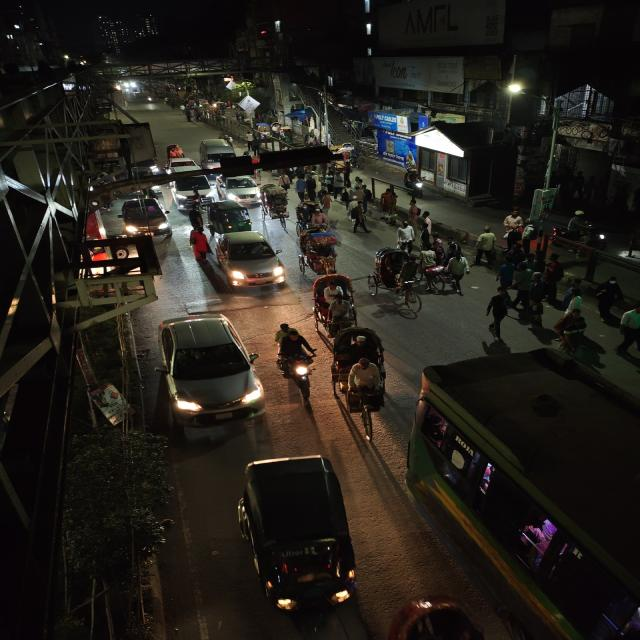bus: (399, 354, 638, 640)
car: (150, 310, 267, 429), (205, 228, 286, 292), (116, 195, 174, 239), (218, 174, 262, 203), (196, 138, 238, 166), (166, 158, 200, 174)
cng: (233, 452, 359, 628), (205, 200, 254, 234)
motorcycle: (272, 321, 318, 403)
pedestrian: (552, 308, 590, 353), (520, 273, 551, 322), (615, 302, 640, 362), (594, 276, 624, 324), (482, 288, 512, 336), (418, 247, 446, 291), (511, 264, 535, 310), (472, 225, 498, 267), (542, 255, 566, 299), (377, 184, 402, 226), (446, 253, 469, 293), (346, 198, 373, 232), (395, 220, 416, 254), (405, 169, 427, 201), (501, 208, 524, 236), (496, 260, 518, 289), (565, 289, 586, 317), (418, 209, 436, 241), (294, 171, 313, 201), (301, 171, 318, 201), (316, 188, 335, 214), (433, 235, 446, 263), (445, 240, 461, 262), (277, 172, 293, 190)
rickshaw: (333, 325, 392, 416), (368, 247, 421, 312), (308, 272, 359, 332), (300, 226, 344, 274), (258, 184, 292, 222), (295, 202, 327, 232)
